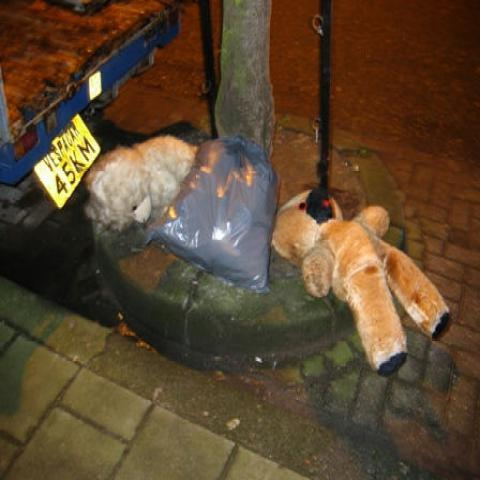truck: (0, 0, 182, 227)
